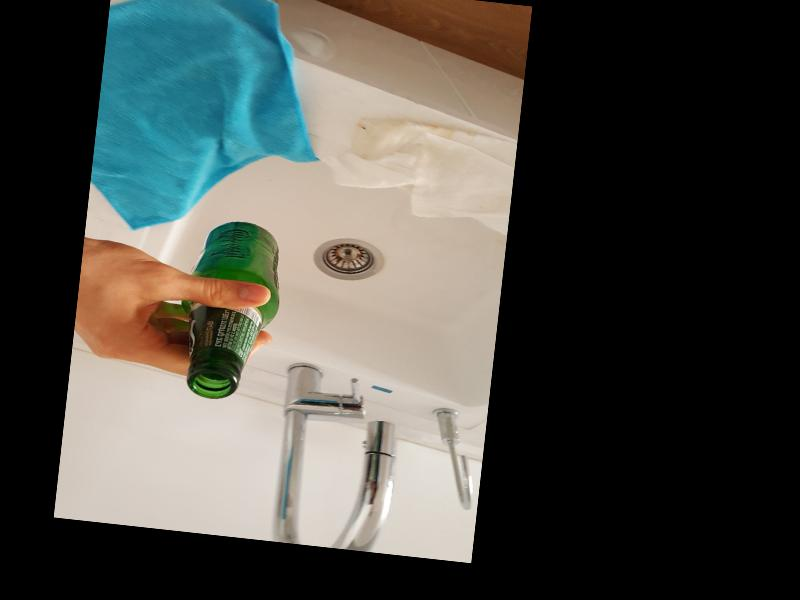Beer: (173, 215, 288, 404)
